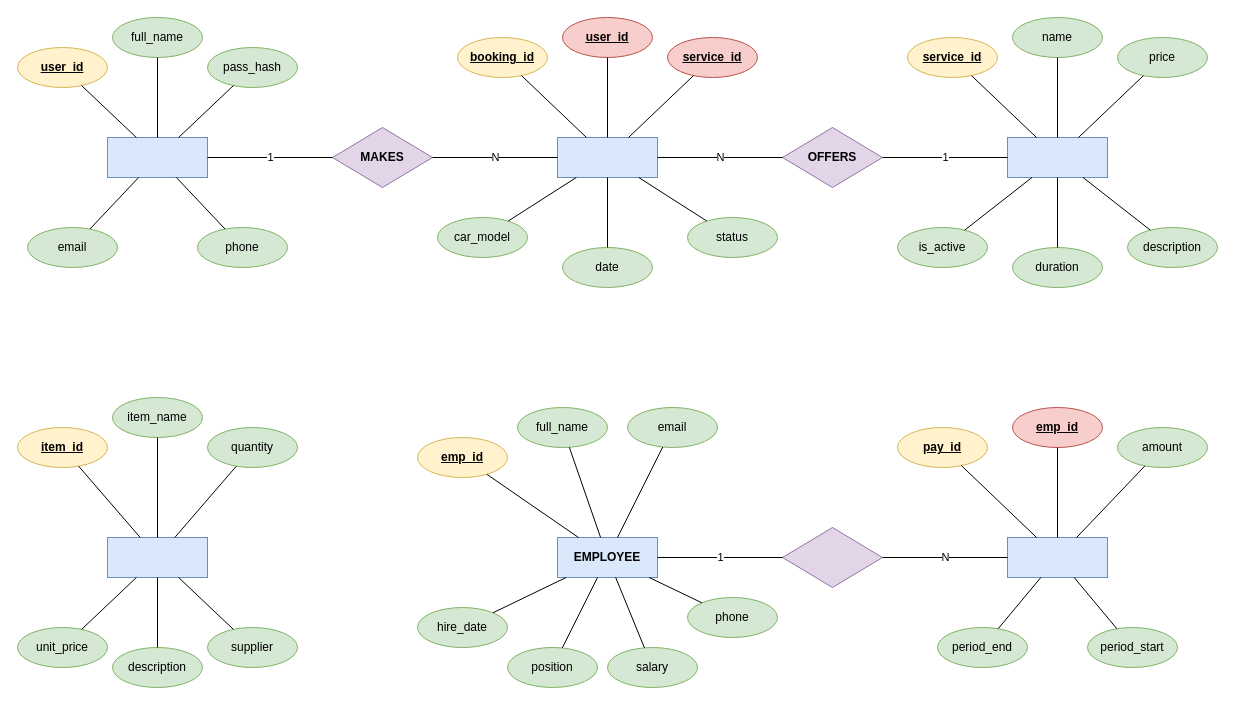
Image size: 1235x705. Some labels were removed from this diagram. The shapes that lost their labels are listed below. From the top down, each one's centre as x and y in pixels, then its label:
At [157,157]: "USER".
At [607,157]: "BOOKING".
At [1057,157]: "SERVICE".
At [157,557]: "INVENTORY".
At [832,557]: "RECEIVES".
At [1057,557]: "PAYROLL".
